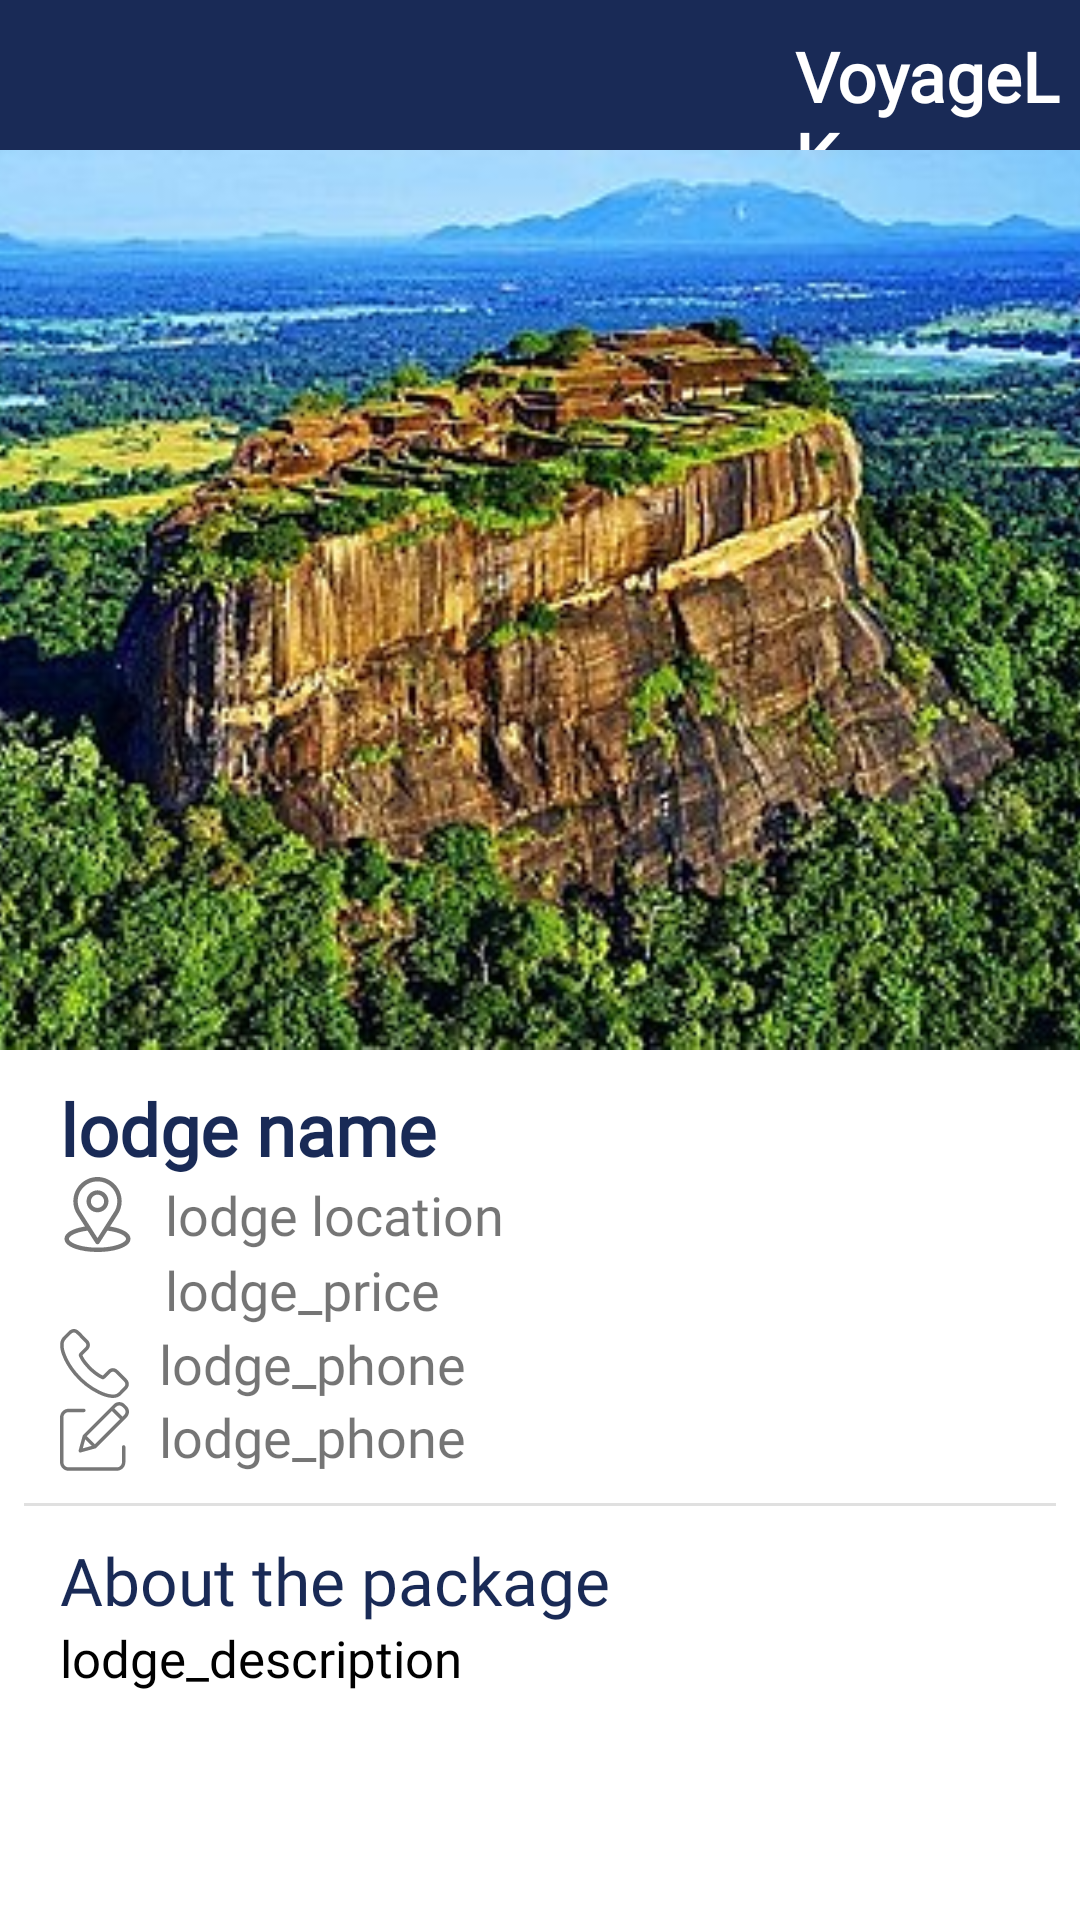

Where to tap for icons on this 1080px×1920px app screen, as point (x, y):
drawablecall: point (94, 1363)
locationdrawable: point (97, 1214)
